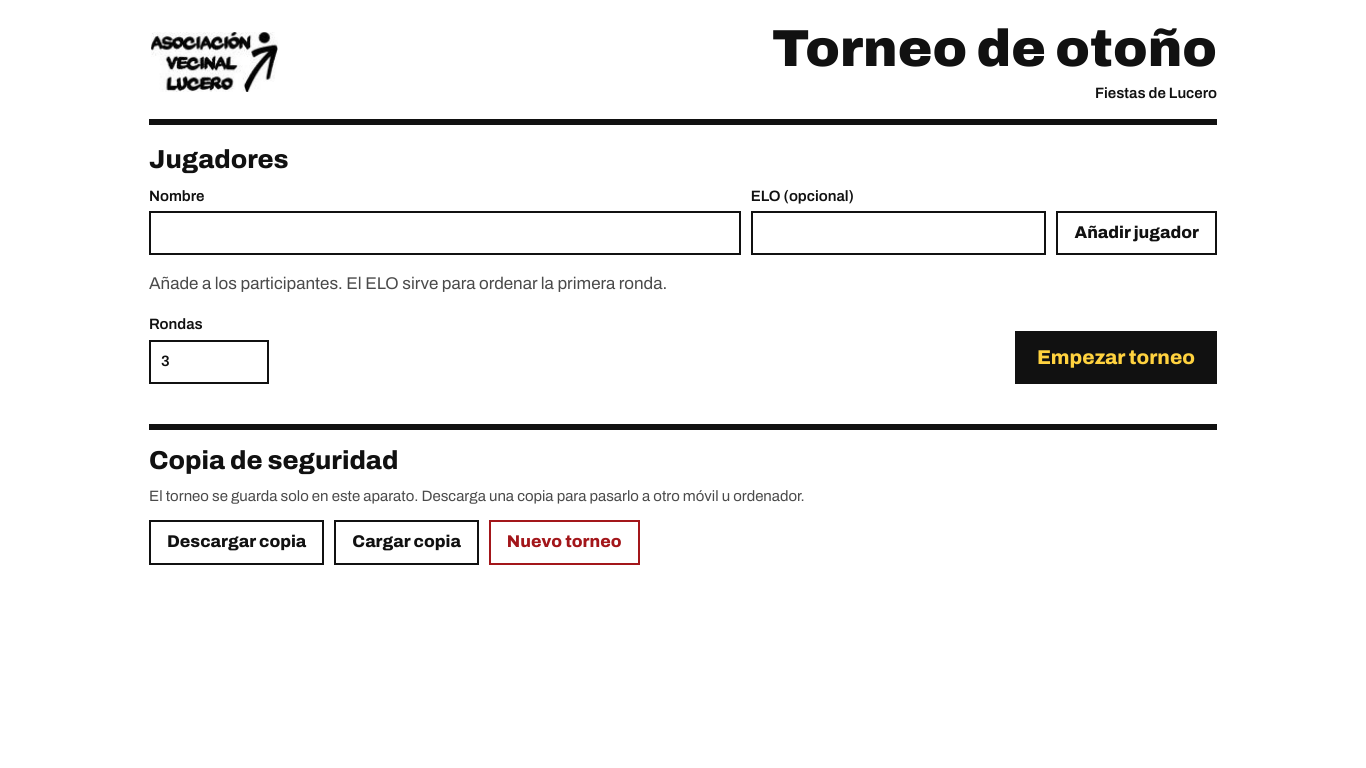
Test: inscripción › crear torneo y añadir 3 jugadores
The image size is (1366, 768).
Earlier steps of the test are not shown.
Type "Ana Gómez" into the field labelled "Nombre".
click(445, 233); type("Ana Gómez")  # box top-left (149, 211), bottom-right (741, 255)
Type "1650" into the field labelled "ELO (opcional)".
click(898, 233); type("1650")  # box top-left (751, 211), bottom-right (1046, 255)
Click the button "Añadir jugador".
click(1137, 233)  # box top-left (1056, 211), bottom-right (1217, 255)
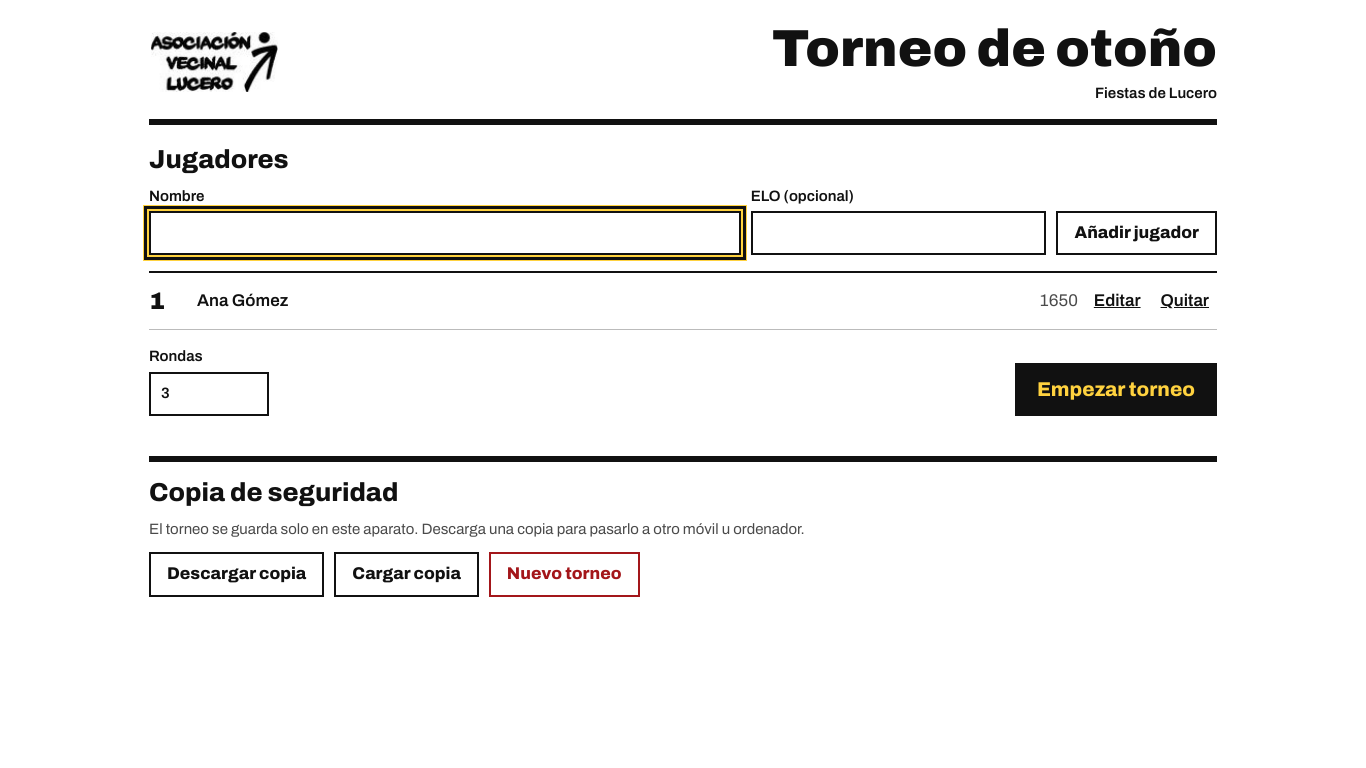
Type "Luis Pérez" into the field labelled "Nombre".
click(445, 233); type("Luis Pérez")  # box top-left (149, 211), bottom-right (741, 255)
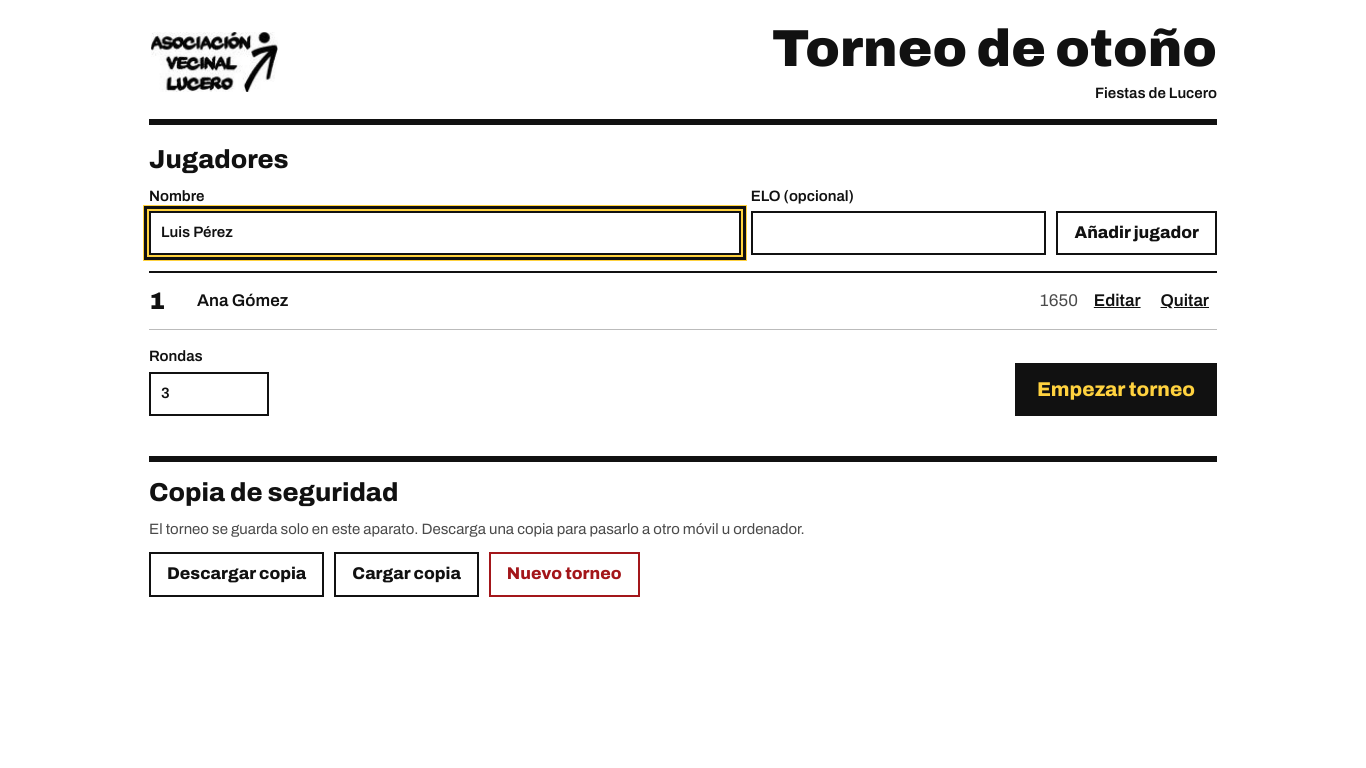
Click the button "Añadir jugador".
click(1137, 233)  # box top-left (1056, 211), bottom-right (1217, 255)
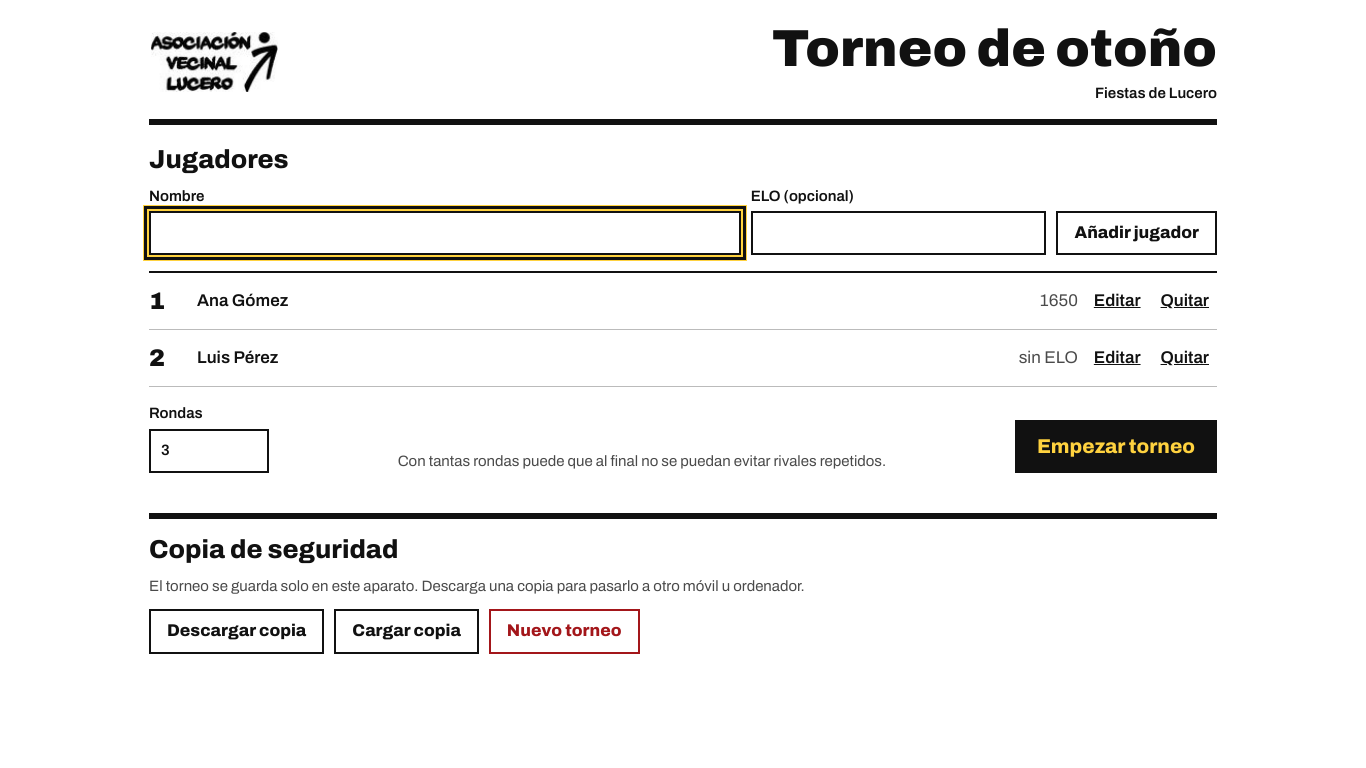
Type "Marta Díaz" into the field labelled "Nombre".
click(445, 233); type("Marta Díaz")  # box top-left (149, 211), bottom-right (741, 255)
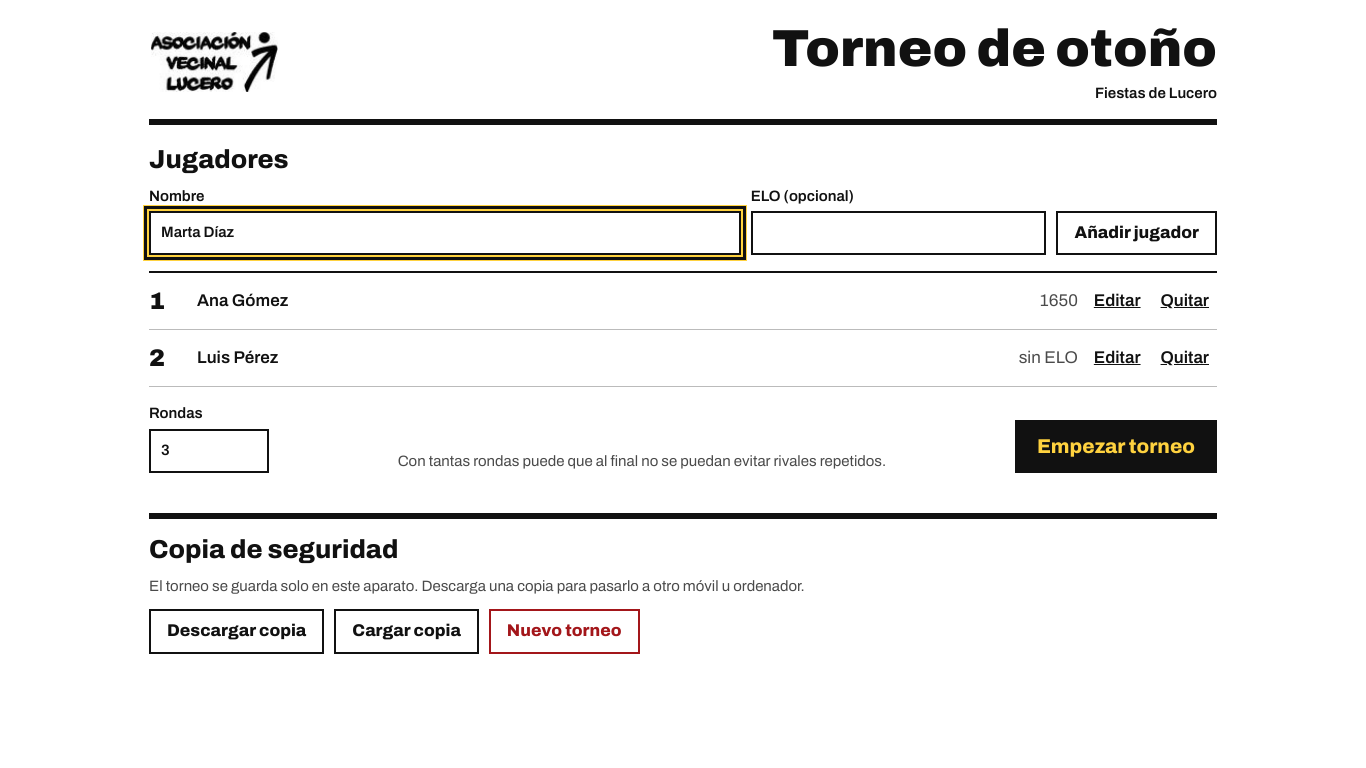
Type "1500" into the field labelled "ELO (opcional)".
click(898, 233); type("1500")  # box top-left (751, 211), bottom-right (1046, 255)
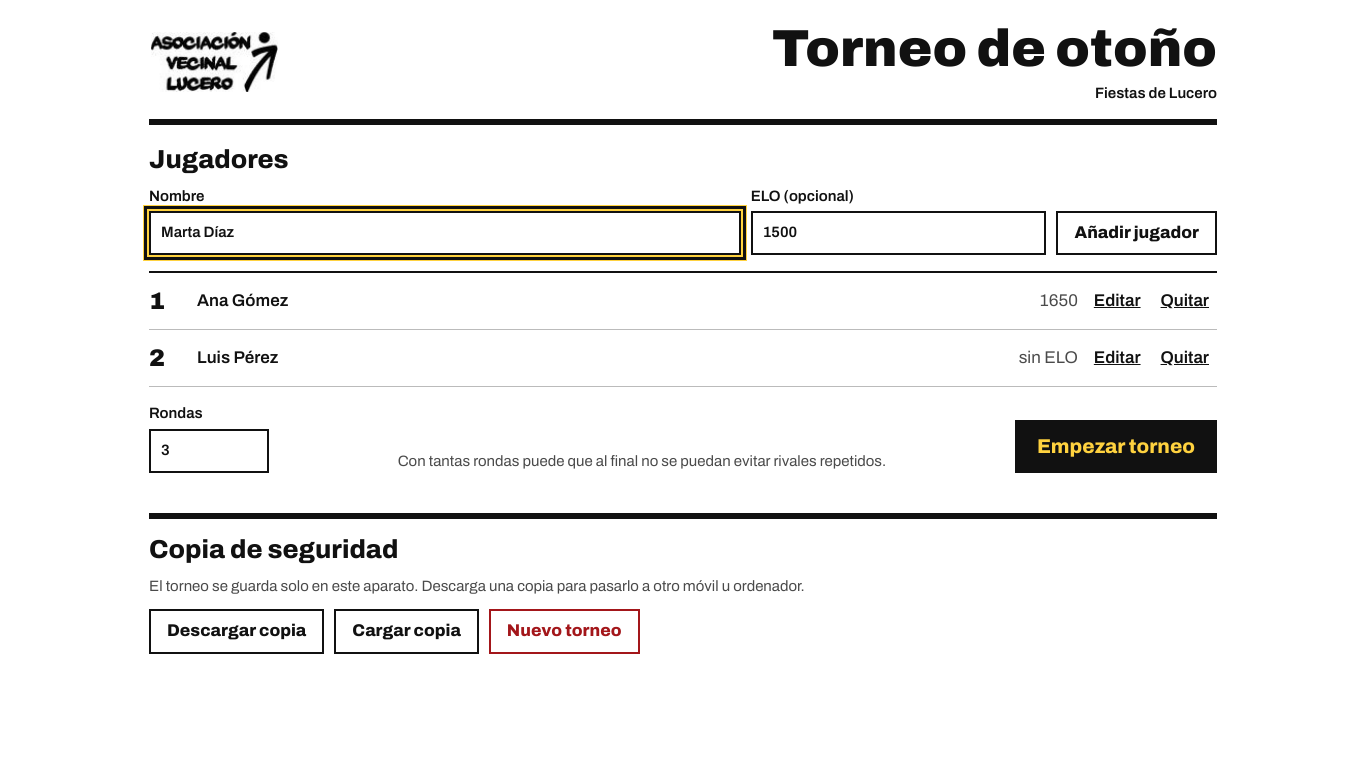
Click the button "Añadir jugador".
click(1137, 233)  # box top-left (1056, 211), bottom-right (1217, 255)
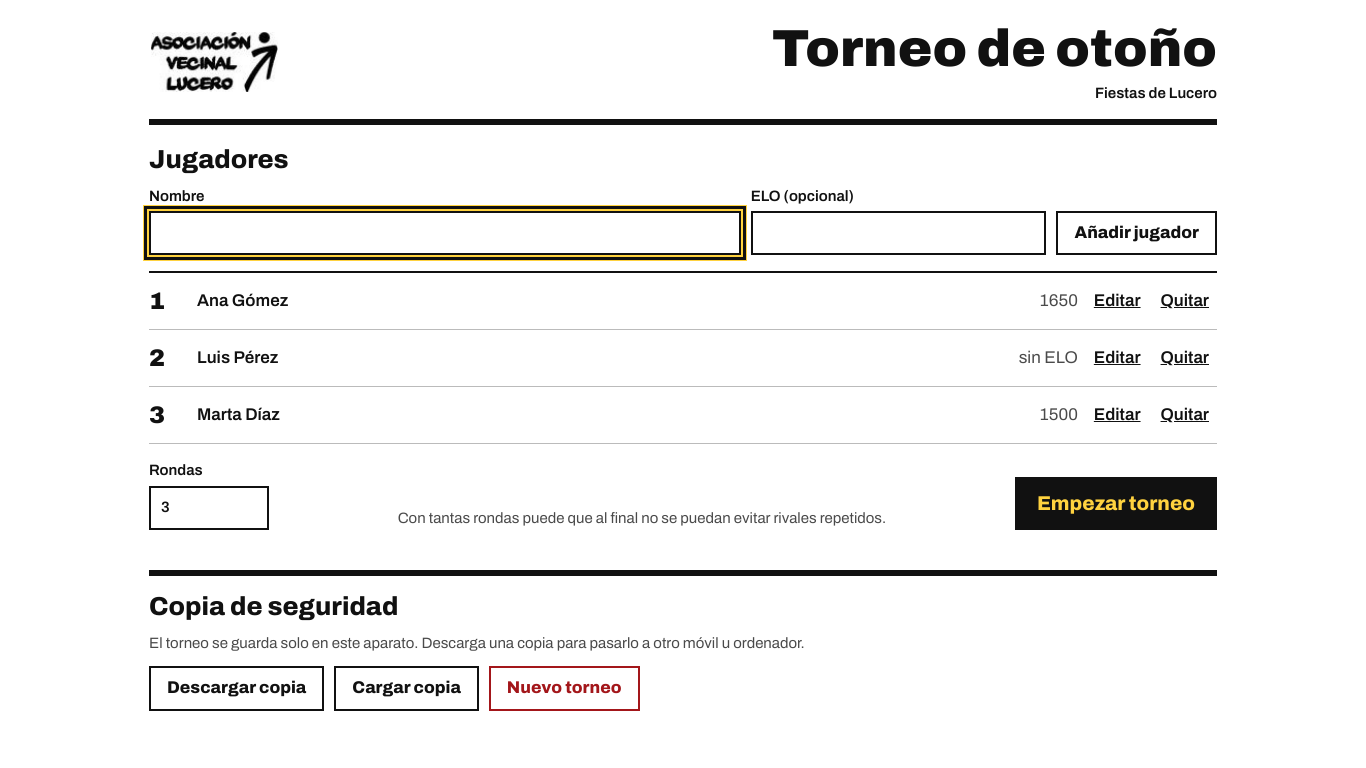
Now the list item "2 Luis Pérez sin ELO Editar Quitar" is shown, box top-left (149, 330), bottom-right (1217, 387)
Now the number of list items is 3, box top-left (149, 273), bottom-right (1217, 330); top-left (149, 330), bottom-right (1217, 387); top-left (149, 387), bottom-right (1217, 444)
